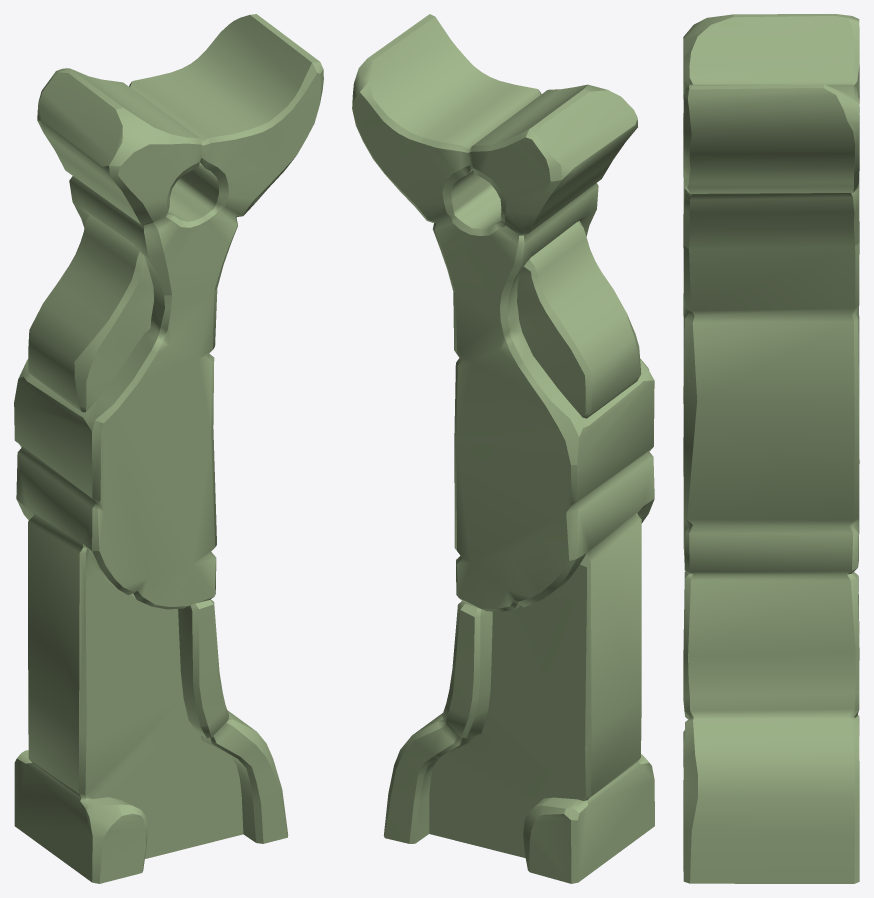
The model's file is SM_Fence_Door_Column_4.fbx.
3 views of the same model, side by side, from view 1: azimuth 30°, elevation 25°; view 2: azimuth 150°, elevation 25°; view 3: azimuth 270°, elevation 25° (orthographic). The views are drawn at different scales.
Visible parts, largest first — view 1: SM_Fence_Door_Column_4; view 2: SM_Fence_Door_Column_4; view 3: SM_Fence_Door_Column_4.
Boxes of the visible parts, x1,y1,x2,y2 form: SM_Fence_Door_Column_4: (14, 14, 323, 883); SM_Fence_Door_Column_4: (352, 14, 654, 883); SM_Fence_Door_Column_4: (683, 14, 859, 883).
Bounding box in the file's own units: 44.28 × 140 × 27.55.
